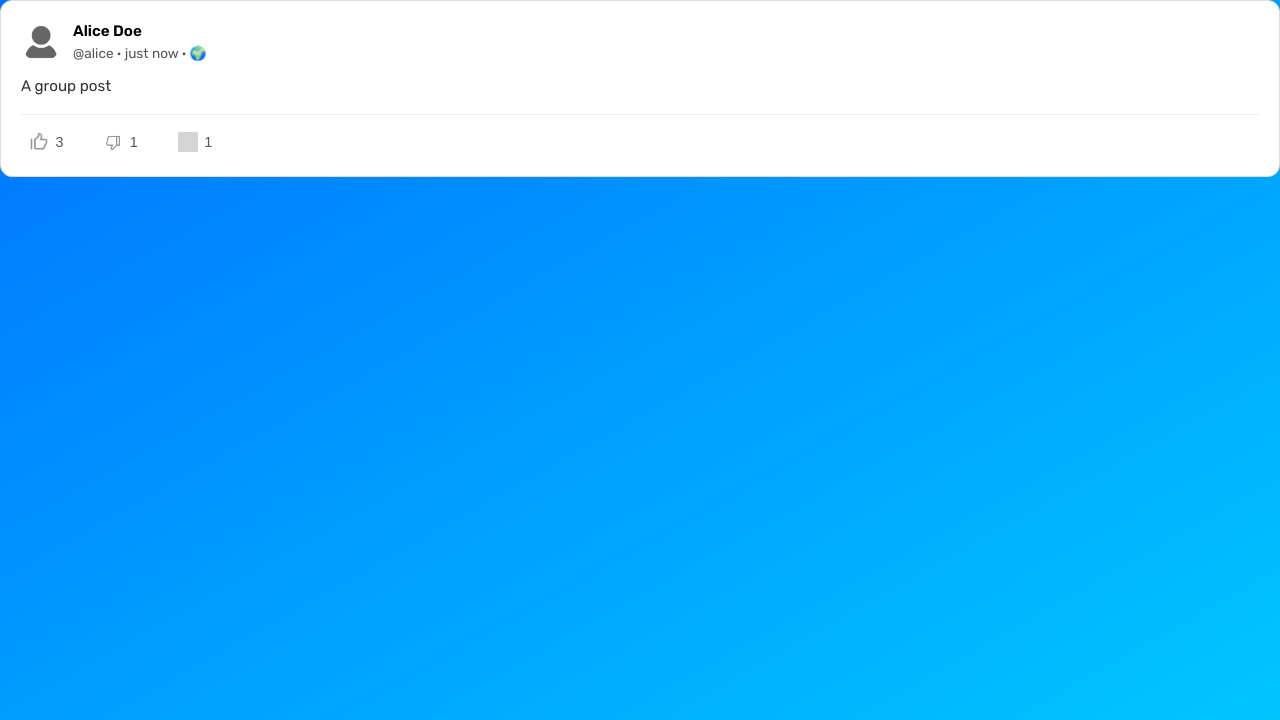
Test case: GroupContent PostsTab comments › loads and shows group post comments
The width and height of the screenshot is (1280, 720).
What coordinates should you click on to do the following:
click the button named "comments"
I would click on:
 (195, 142)
Its box is [170,127,220,156].
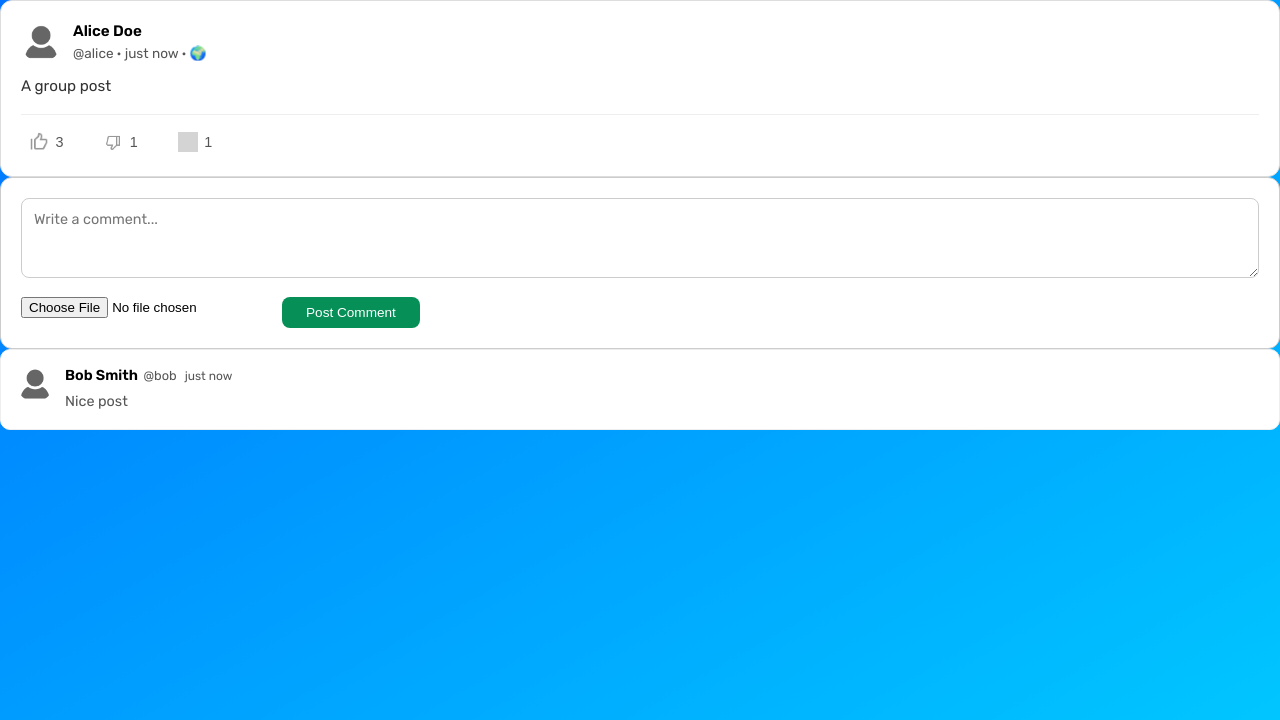
Check: the text "Nice post" is shown, box [65,393,128,410]
